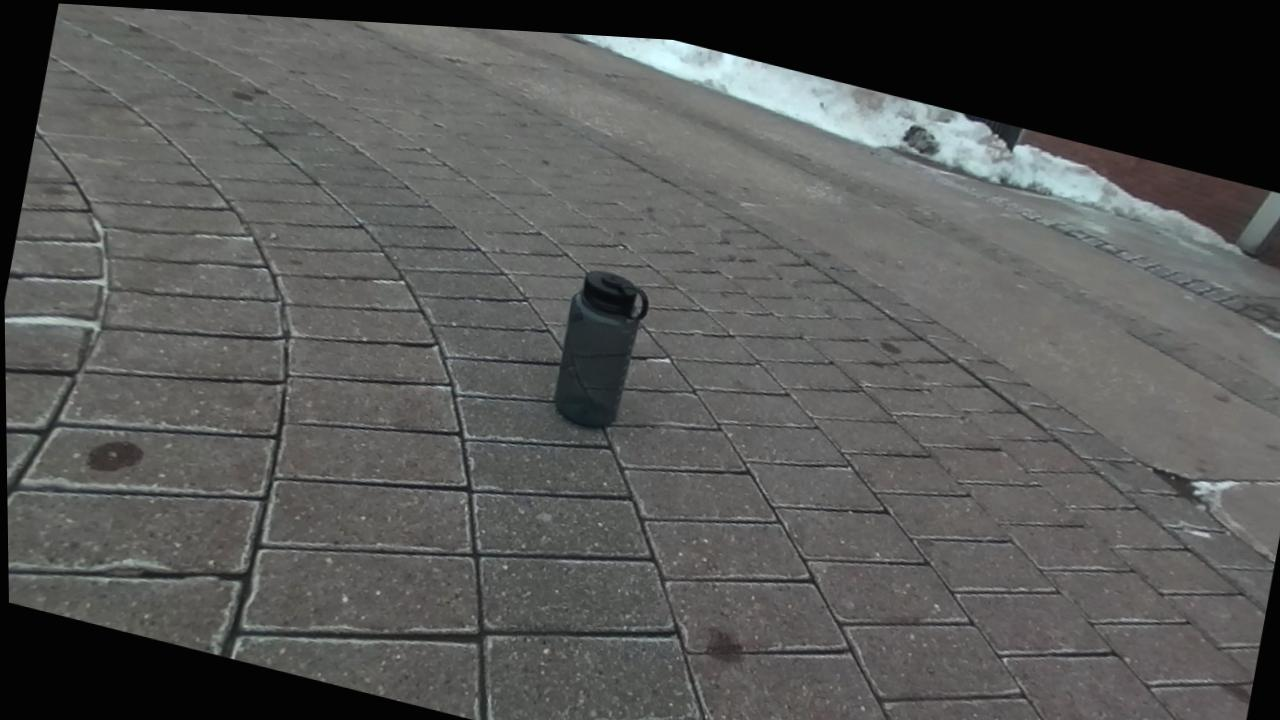bottle: (554, 270, 648, 426)
